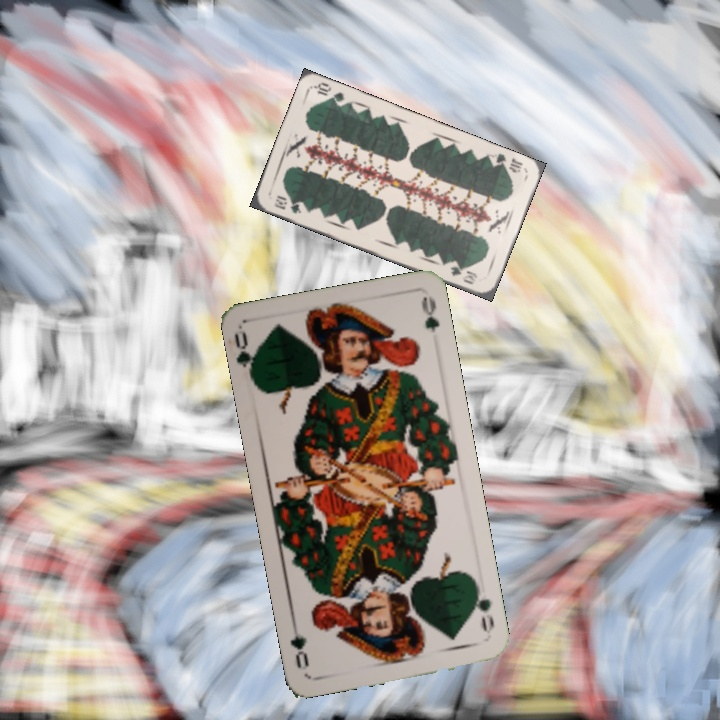G10: (486, 149, 525, 175), (270, 191, 304, 216)
GO: (230, 328, 260, 386), (469, 580, 497, 636)
